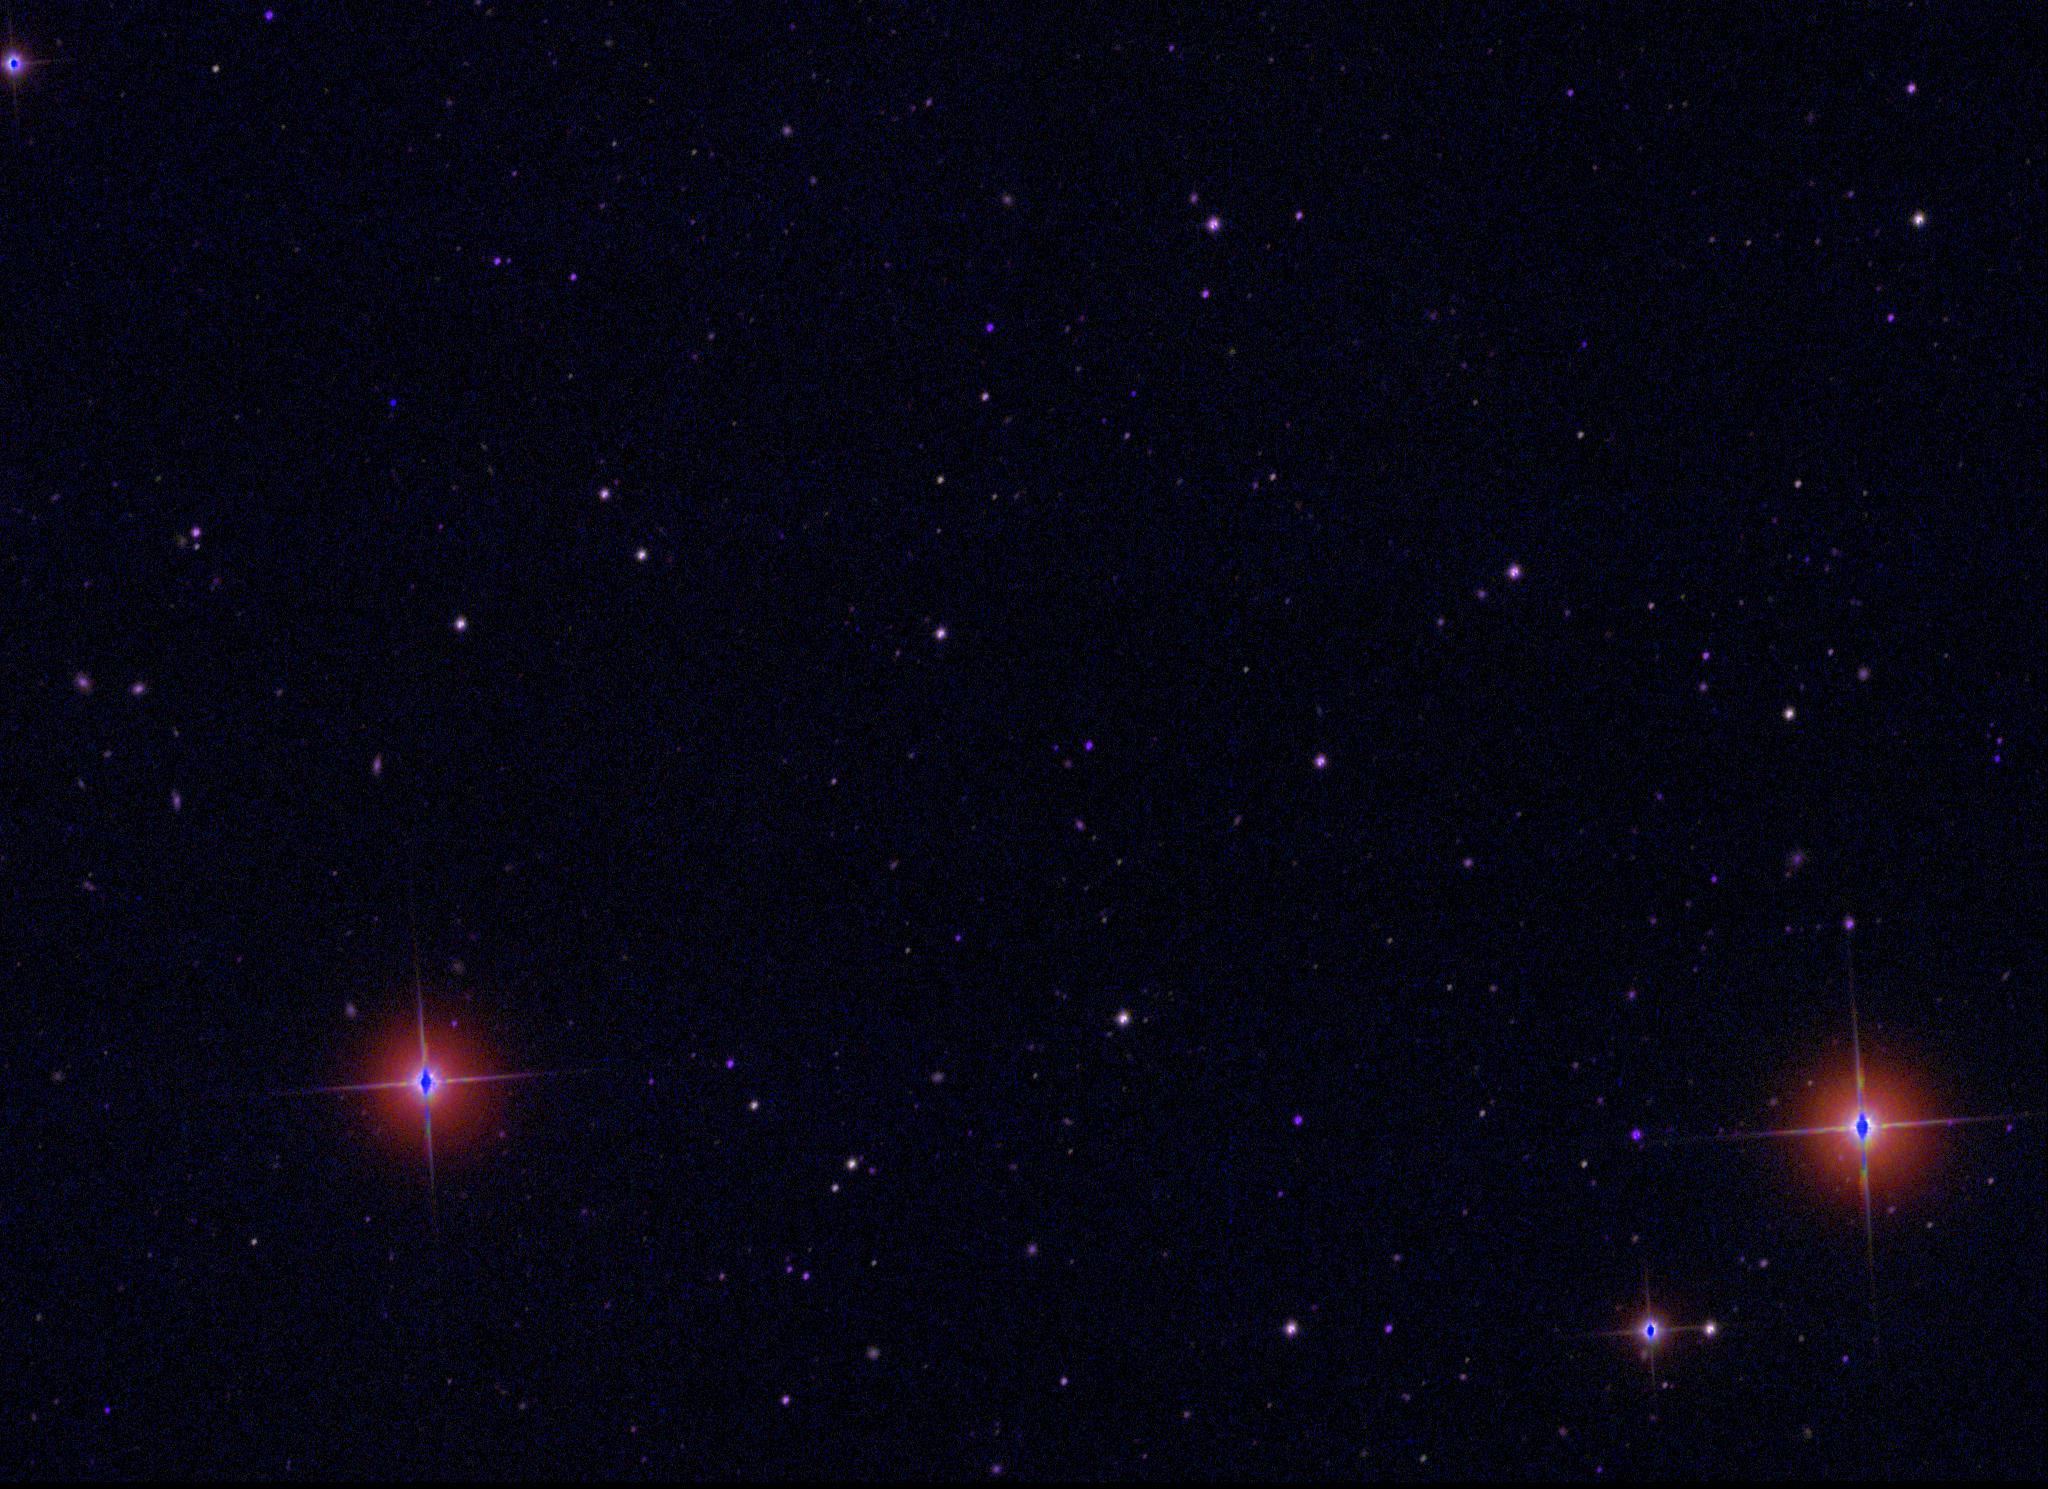L: (386, 396, 401, 410)
